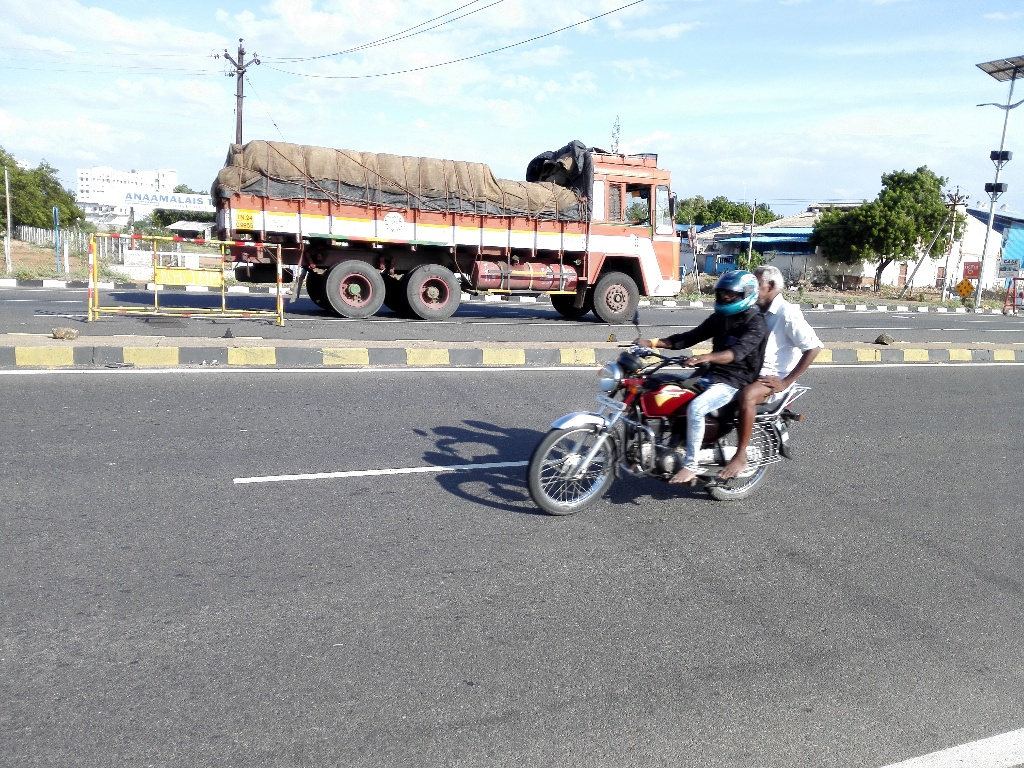biker: (507, 226, 848, 531)
helmet: (707, 257, 761, 323)
nohelmet: (757, 256, 795, 320)
